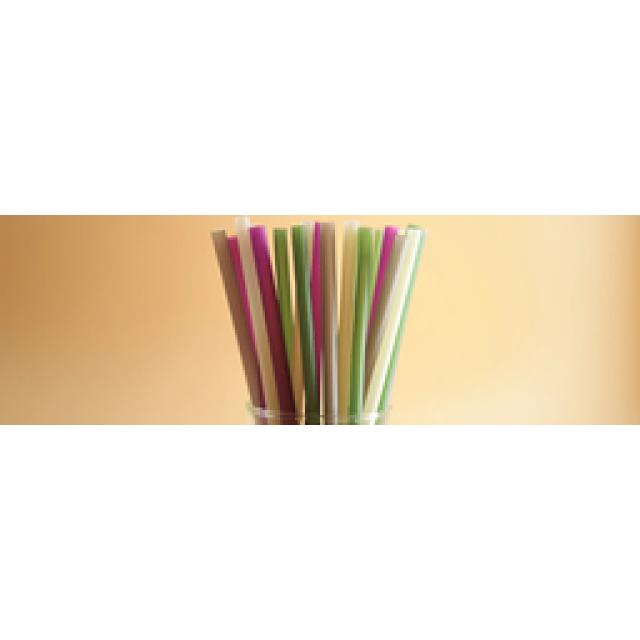plastic: (212, 218, 422, 422)
